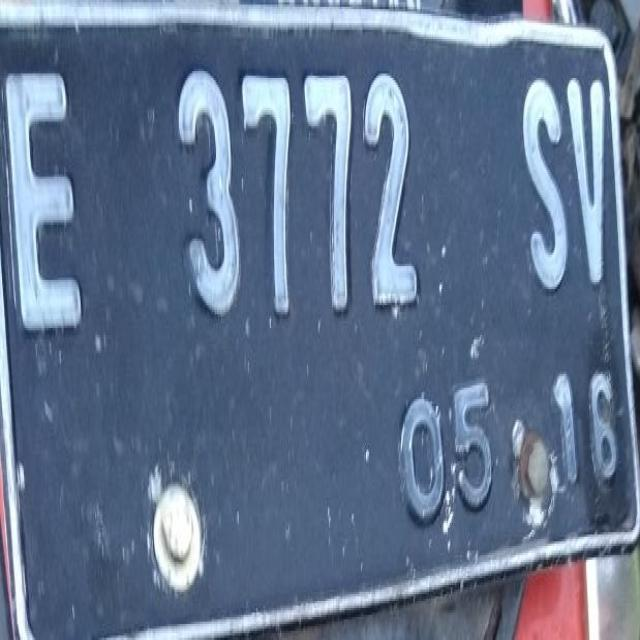plate: (1, 2, 639, 608)
